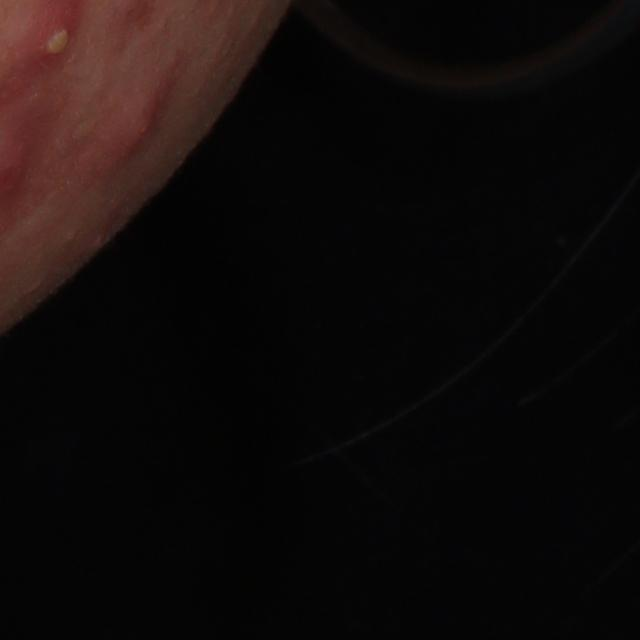papule: (95, 73, 175, 176)
